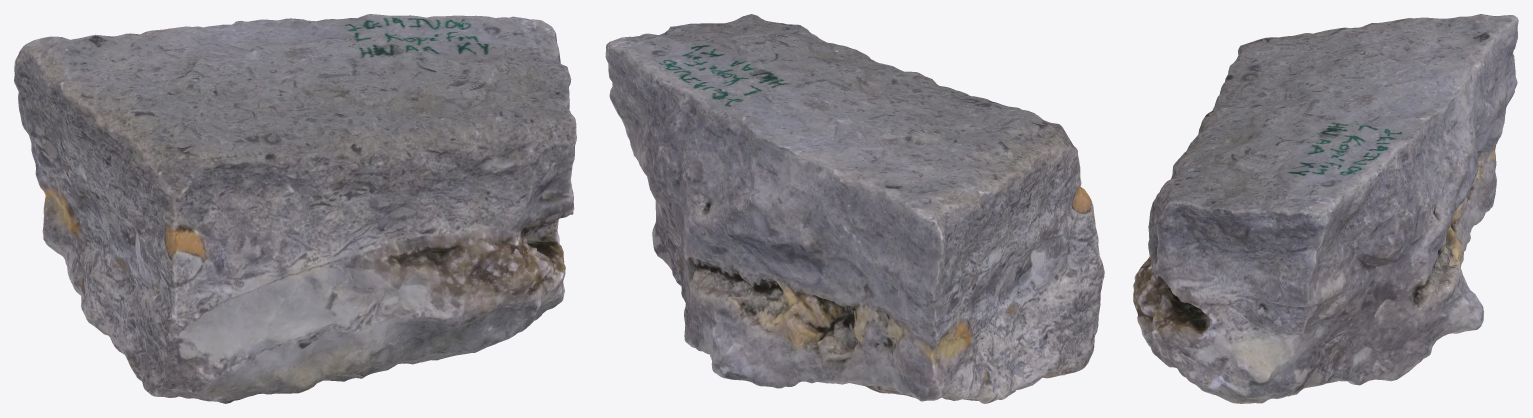
Rendered from fossiliferous_limestone.glb.
3 renders of one model, left to right at view 1: azimuth 30°, elevation 25°; view 2: azimuth 150°, elevation 25°; view 3: azimuth 270°, elevation 25°, orthographic. The views are drawn at different scales.
Visible parts, largest first — view 1: Object_2; view 2: Object_2; view 3: Object_2.
Part boxes in pixels (bbox=[...]): Object_2: bbox=[14, 14, 576, 403]; Object_2: bbox=[605, 14, 1104, 403]; Object_2: bbox=[1133, 14, 1518, 403].
Bounding box in the file's own units: 1.51 × 0.8739 × 1.24.
1 material, 1 textured.
